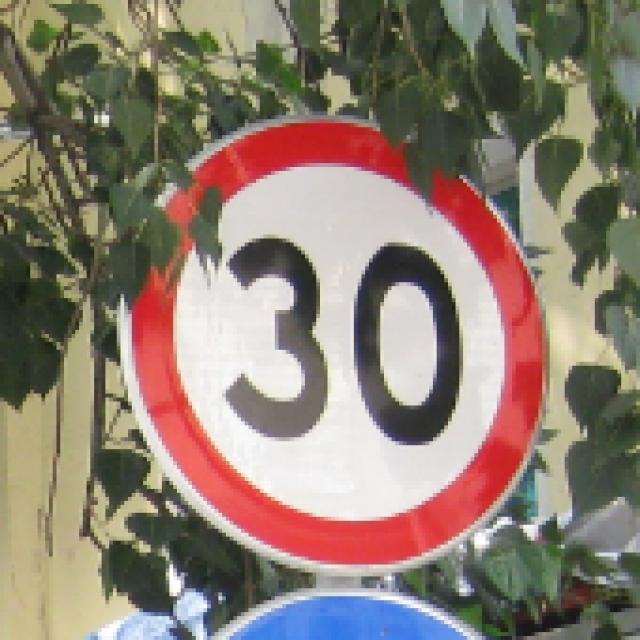Speed: (104, 91, 618, 589)
